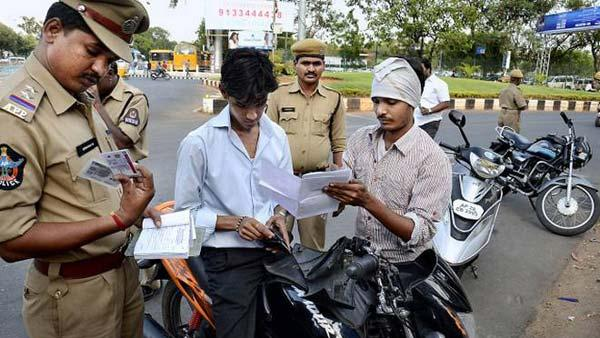nohelmet: (201, 41, 289, 138)
